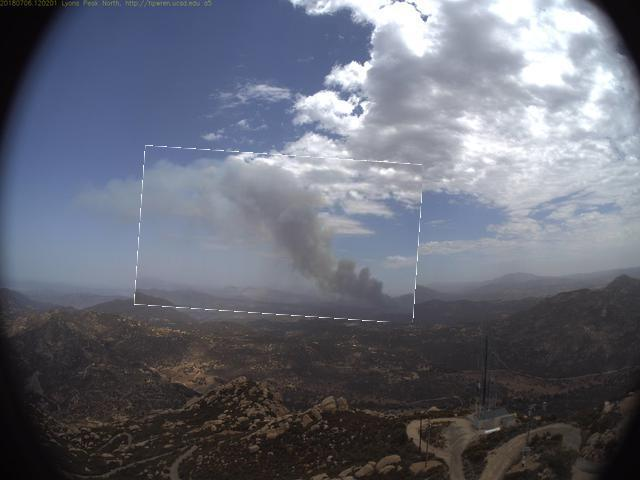smoke: (138, 151, 422, 320)
